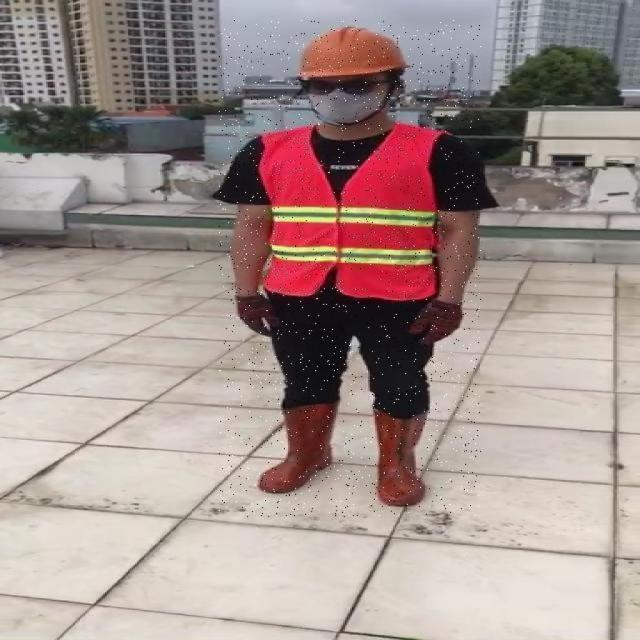Gloves-Detection: (406, 305, 462, 343), (228, 295, 276, 334)
